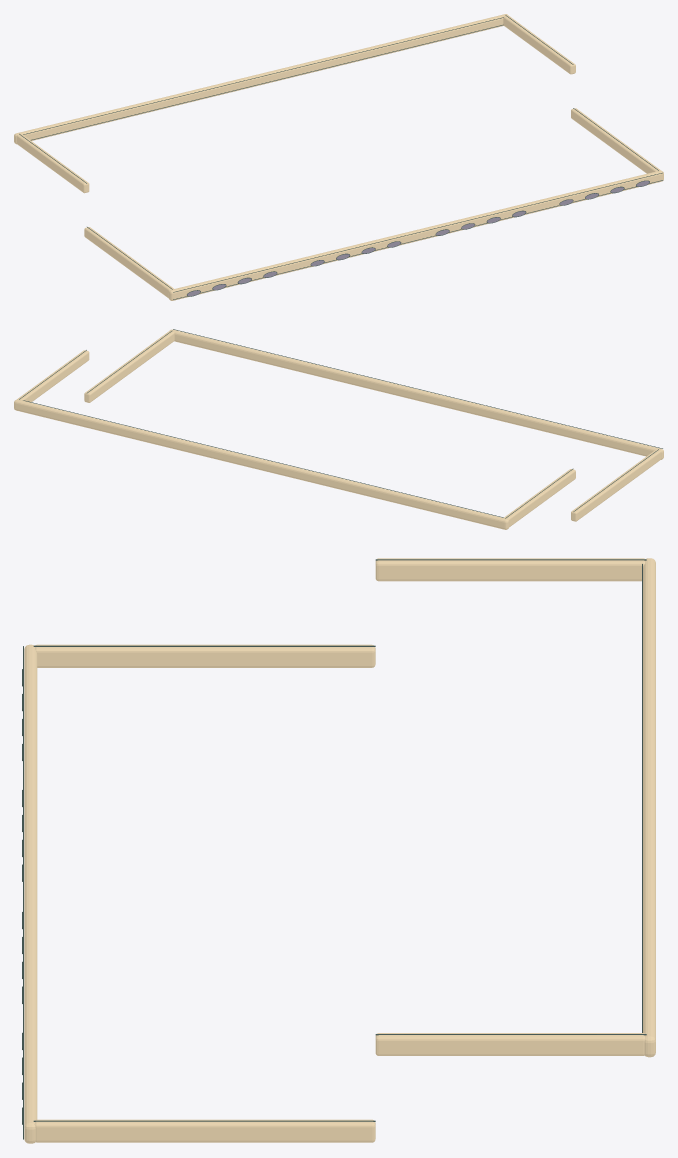
File: switchback-trim-v2.glb
3 renders of one model, top to bottom at view 1: azimuth 30°, elevation 25°; view 2: azimuth 150°, elevation 25°; view 3: azimuth 270°, elevation 25°, orthographic. The views are drawn at different scales.
Parts seen in each view (by area): view 1: TG02_TRIM; view 2: TG02_TRIM; view 3: TG02_TRIM.
Boxes of the visible parts, x1,y1,x2,y2 form: TG02_TRIM: (14,14,663,300); TG02_TRIM: (14,329,663,529); TG02_TRIM: (22,558,655,1143).
Size of the model in its own units: 19.35 by 2.02 by 10.76.
